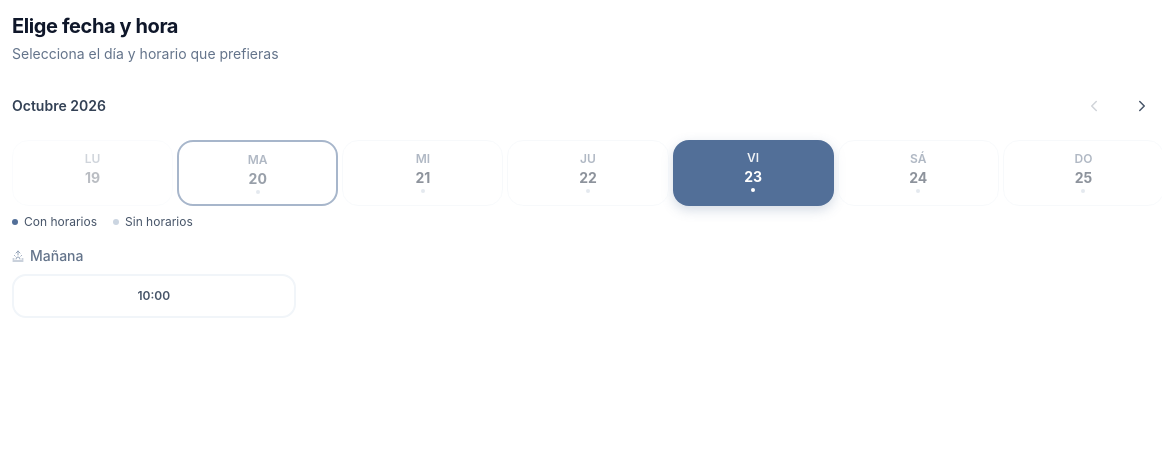
Test case: PasoFechaHora — disponibilidad de la semana › en un día vacío ofrece el próximo día disponible
What coordinates should you click on to do the following:
click the button "Mi 21"
I would click on:
 (423, 173)
Its box is [342,140,503,206].
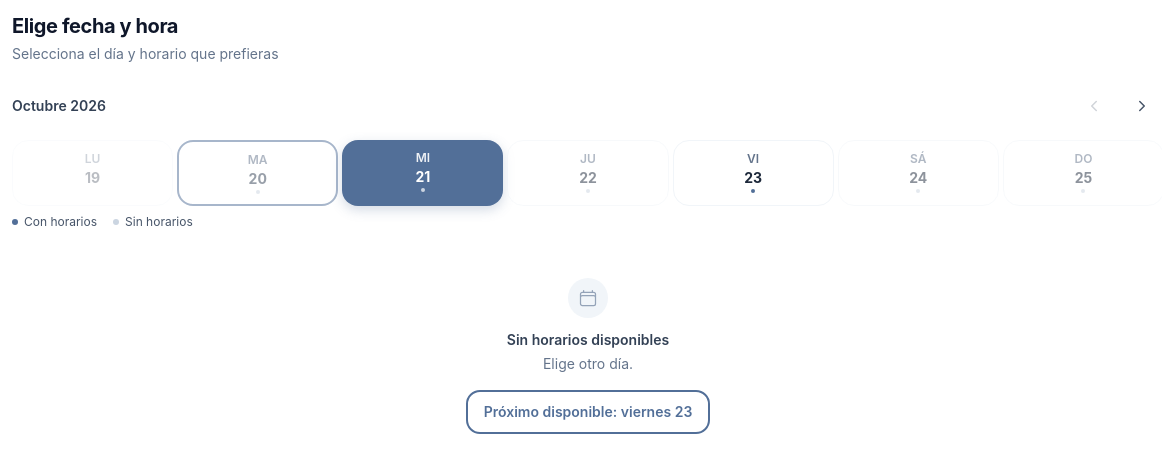
What coordinates should you click on to do the following:
click the button "Próximo disponible: viernes 23"
I would click on:
 (588, 412)
Its box is [466,390,710,434].
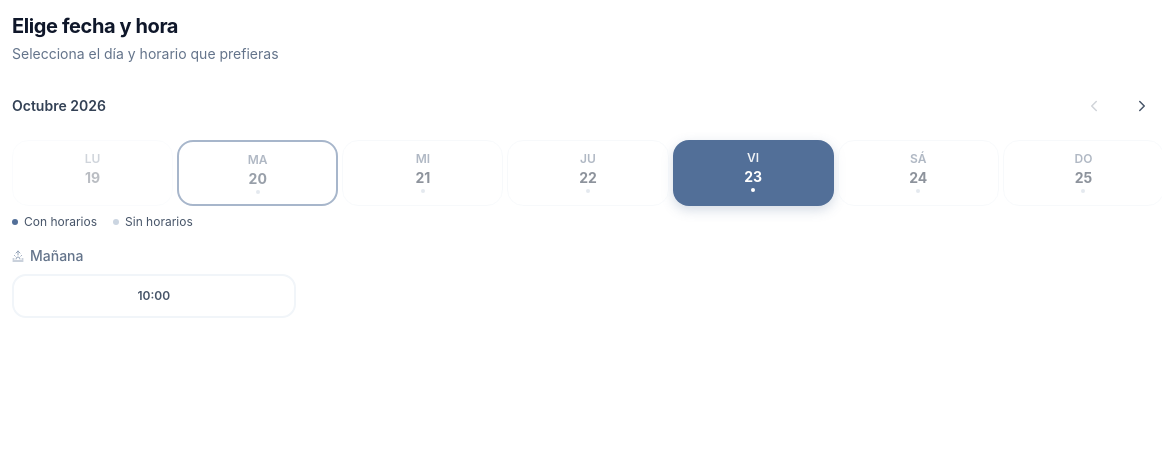
expect the button "10:00" is shown: met, box [12,274,296,318]
